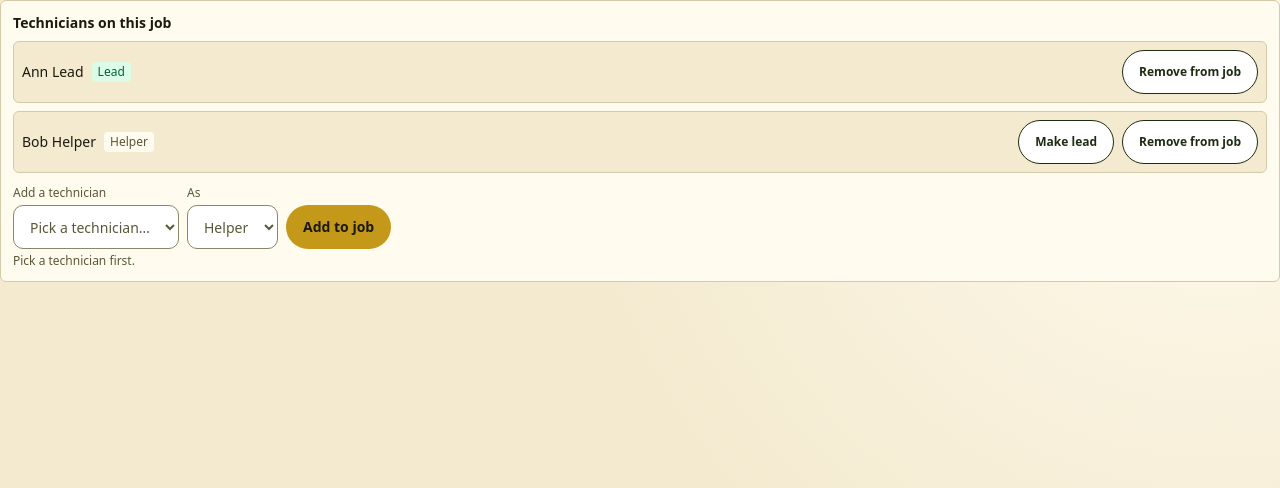
Test: JobCrew - Make lead and Remove from job › shows a server refusal on screen
The width and height of the screenshot is (1280, 488).
Click the button "Make lead": (1066, 142) [1018,120,1114,164]
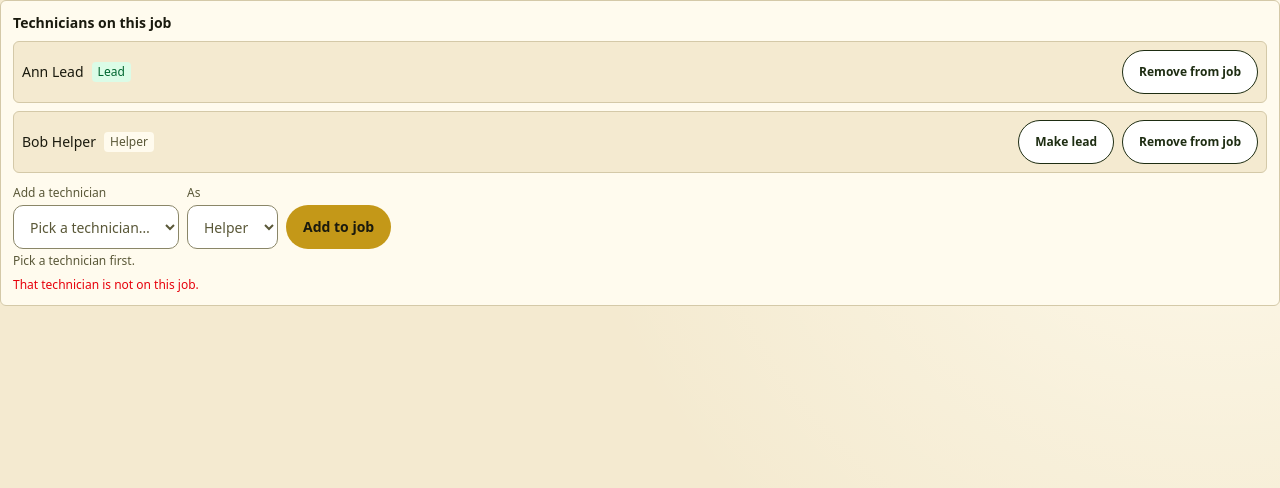
Result: the text "That technician is not on this job." is shown at [13,276,199,293]
